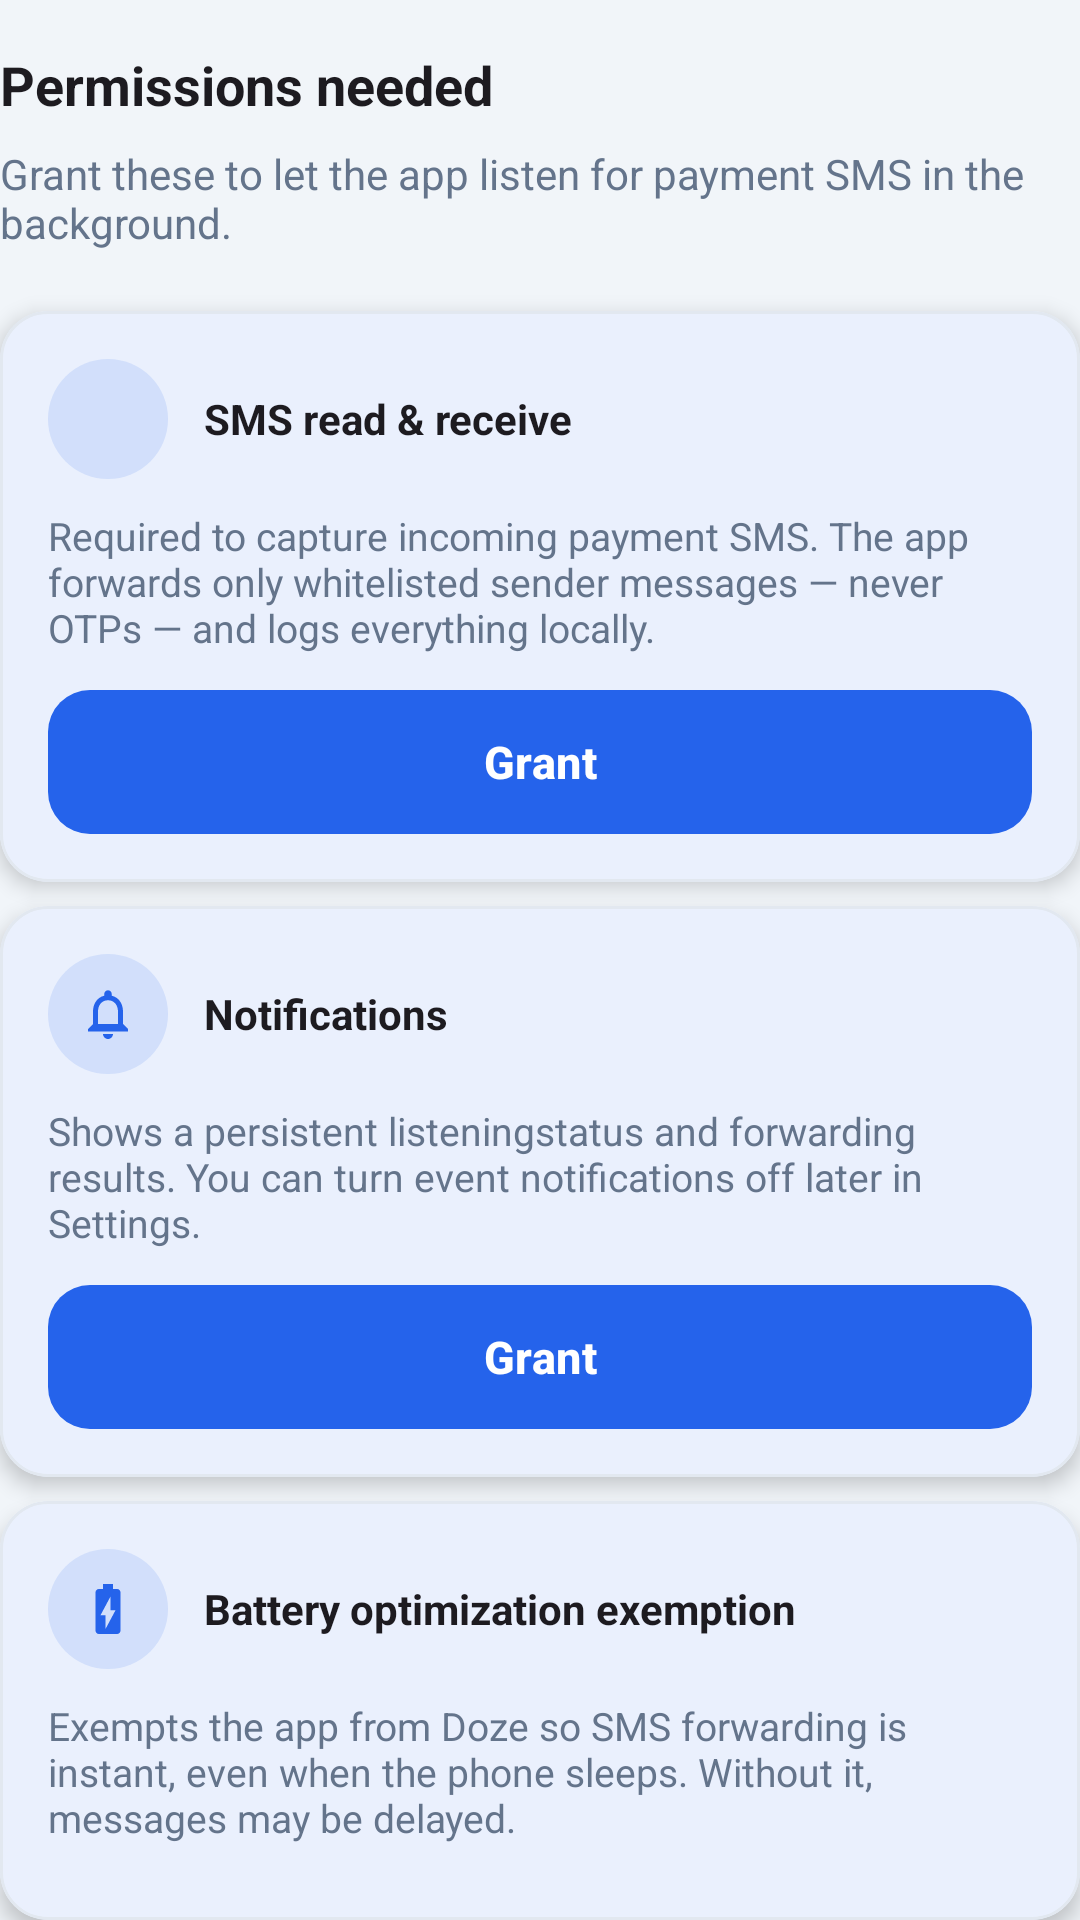

Named icons in this screenshot (1080×1920) and their bounding boxes, (x1, y1, x2, y2):
bell: (48, 954, 168, 1074)
